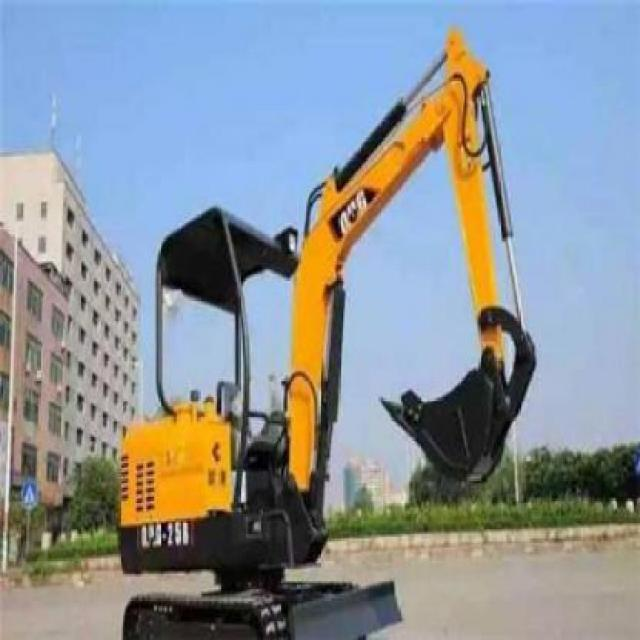Excavator: (119, 18, 535, 638)
